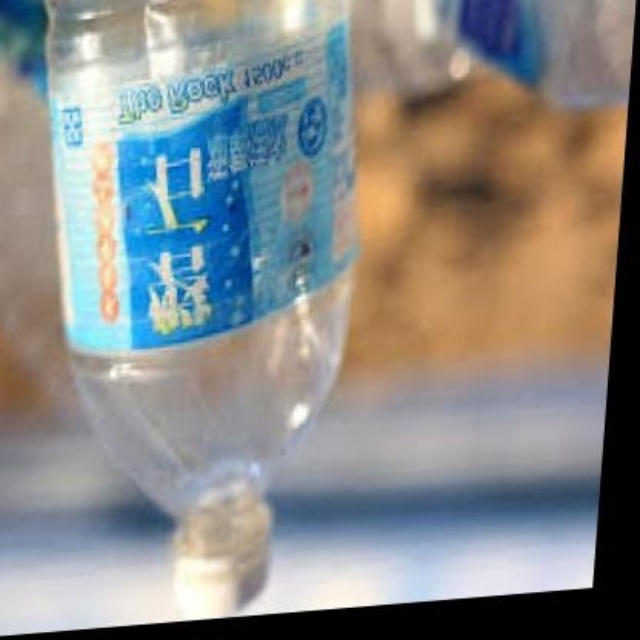trash: (48, 0, 355, 615)
